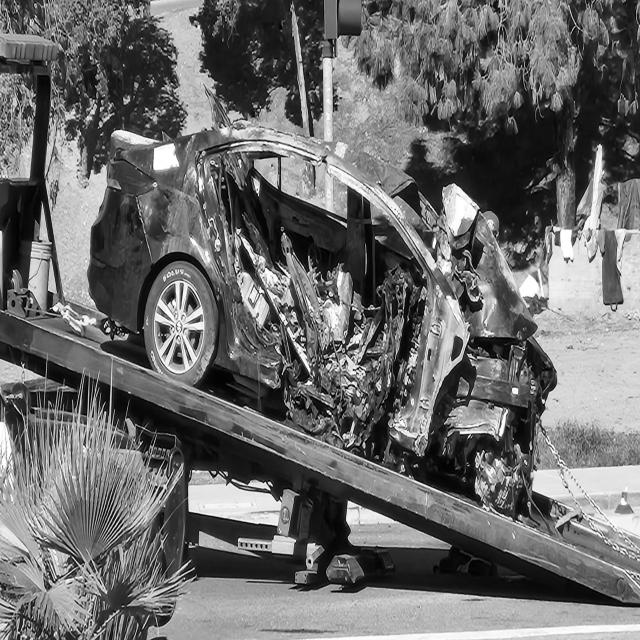crush: (195, 124, 557, 523)
